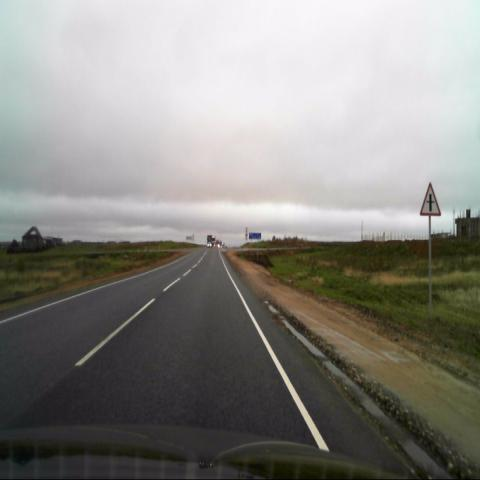2_3: (419, 183, 441, 216)
